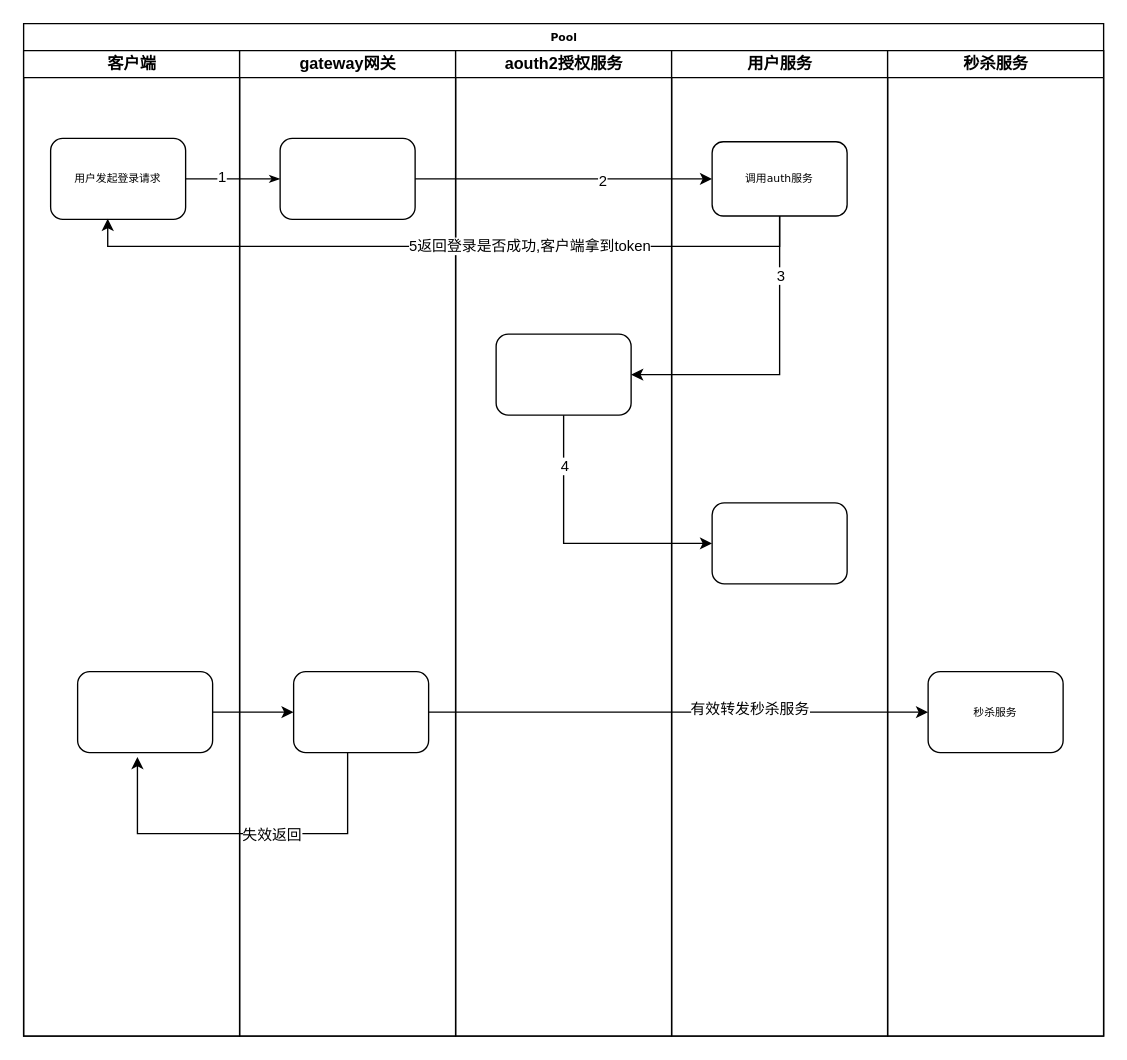
This 1127x1060 diagram has some shape labels left out. The shapes that lost their labels are listed below. From the top down, each one's centre as x and y in pixels, then its label:
At point 347,178: "转发登录url".
At point 563,374: "aouth2获取token".
At point 779,543: "验证登录用户有效性".
At point 144,711: "客户端携带token发起秒杀".
At point 360,711: "验证token是否有效".
